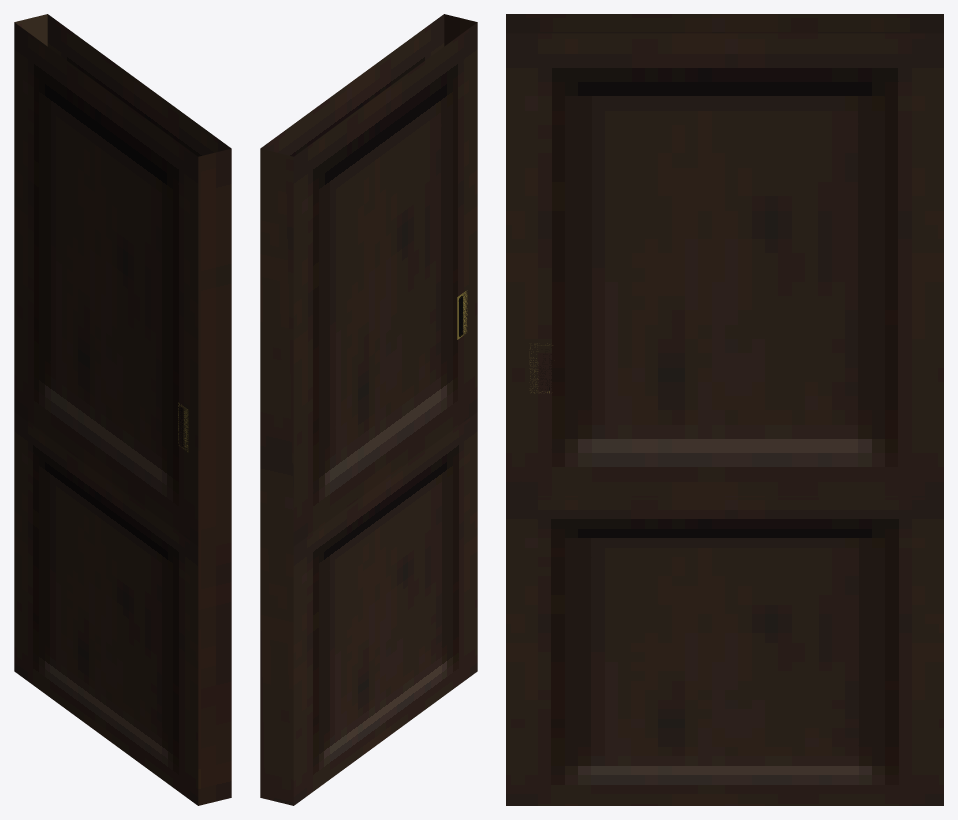
Rendered from primary_194.glb.
The picture shows the model from 3 angles, left to right: view 1: azimuth 30°, elevation 25°; view 2: azimuth 150°, elevation 25°; view 3: azimuth 270°, elevation 25°; orthographic projection. The views are drawn at different scales.
Visible parts, largest first — view 1: Object; view 2: Object; view 3: Object.
Boxes of the visible parts, <box> form: Object: <box>14,14,231,805</box>; Object: <box>260,14,477,805</box>; Object: <box>506,14,943,805</box>.
Size of the model in its own units: 0.1506 by 2.79 by 1.43.
7 materials, 7 textured.
